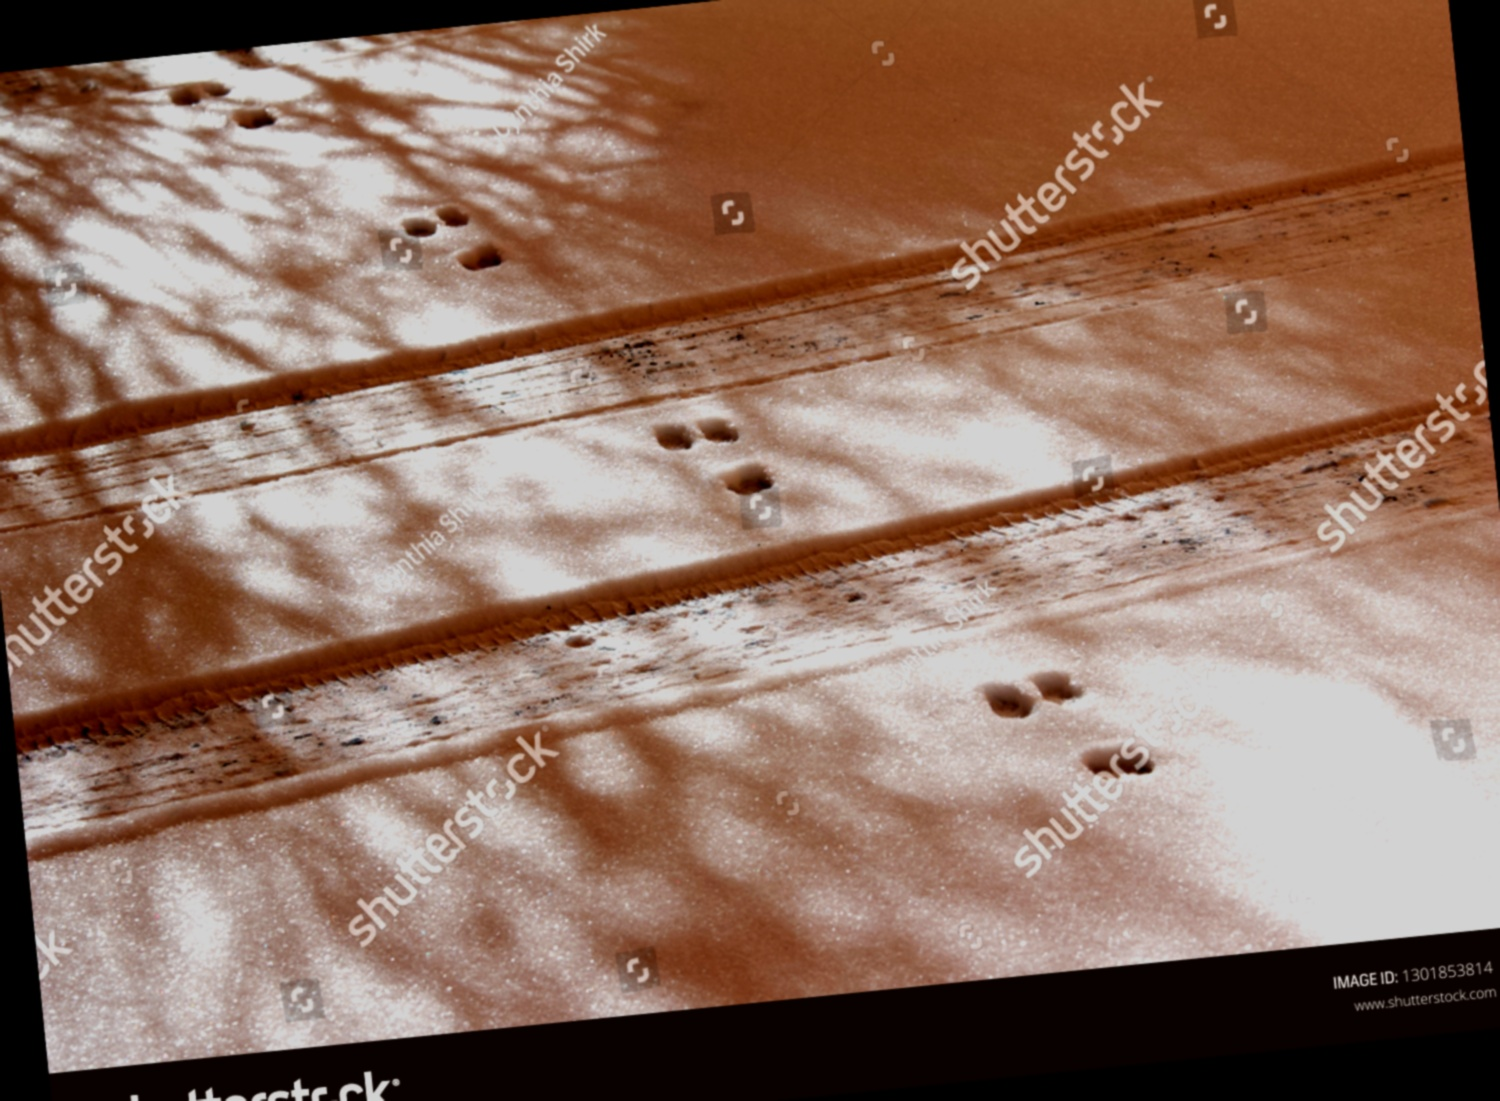lapin: (983, 626, 1168, 806), (652, 394, 788, 528), (396, 165, 528, 297)
